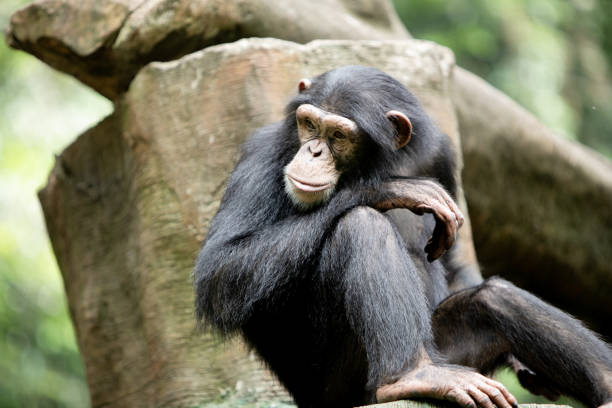chimpanzee: (271, 51, 447, 211)
